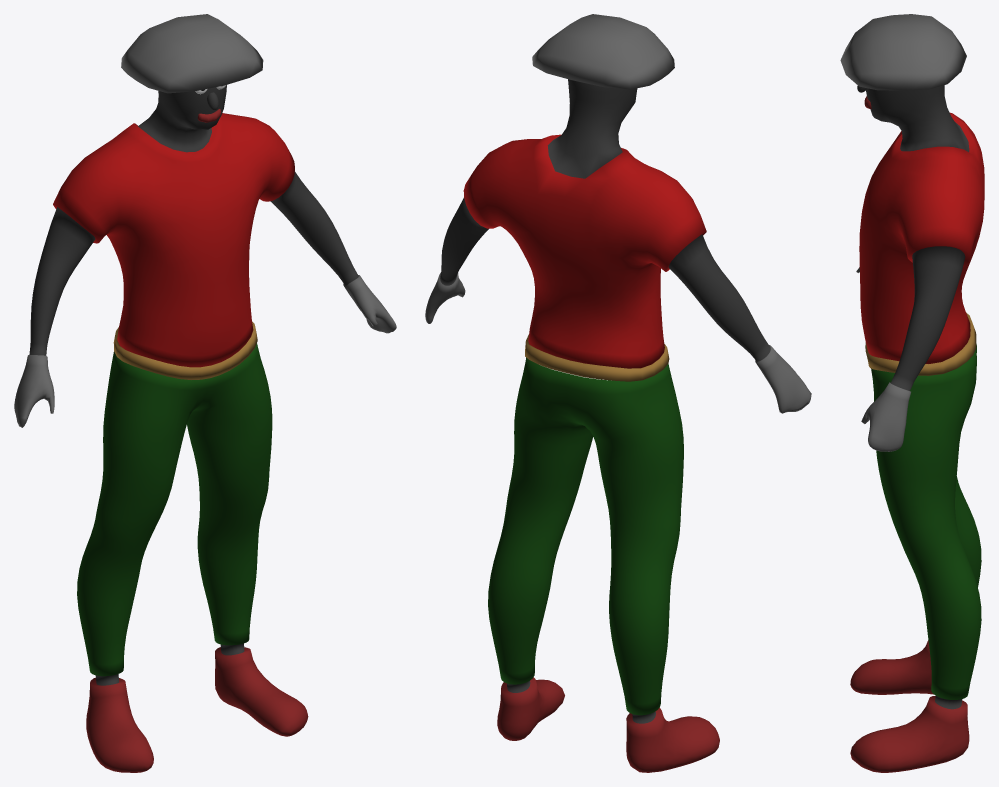
The model's file is Karakter9.fbx.
3 renders of one model, left to right at view 1: azimuth 30°, elevation 25°; view 2: azimuth 150°, elevation 25°; view 3: azimuth 270°, elevation 25°, orthographic.
Parts seen in each view (by area): view 1: male_zbrush; view 2: male_zbrush; view 3: male_zbrush.
Part boxes in pixels (left/top/right/bottom): male_zbrush: left=14, top=14, right=396, bottom=772; male_zbrush: left=425, top=14, right=811, bottom=772; male_zbrush: left=840, top=14, right=984, bottom=772.
Size of the model in its own units: 157 by 285 by 52.81.
1 material, 1 textured.
